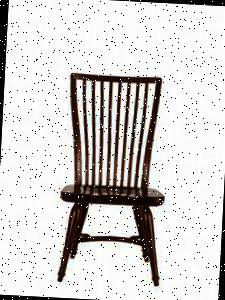Silla: (52, 67, 172, 289)
